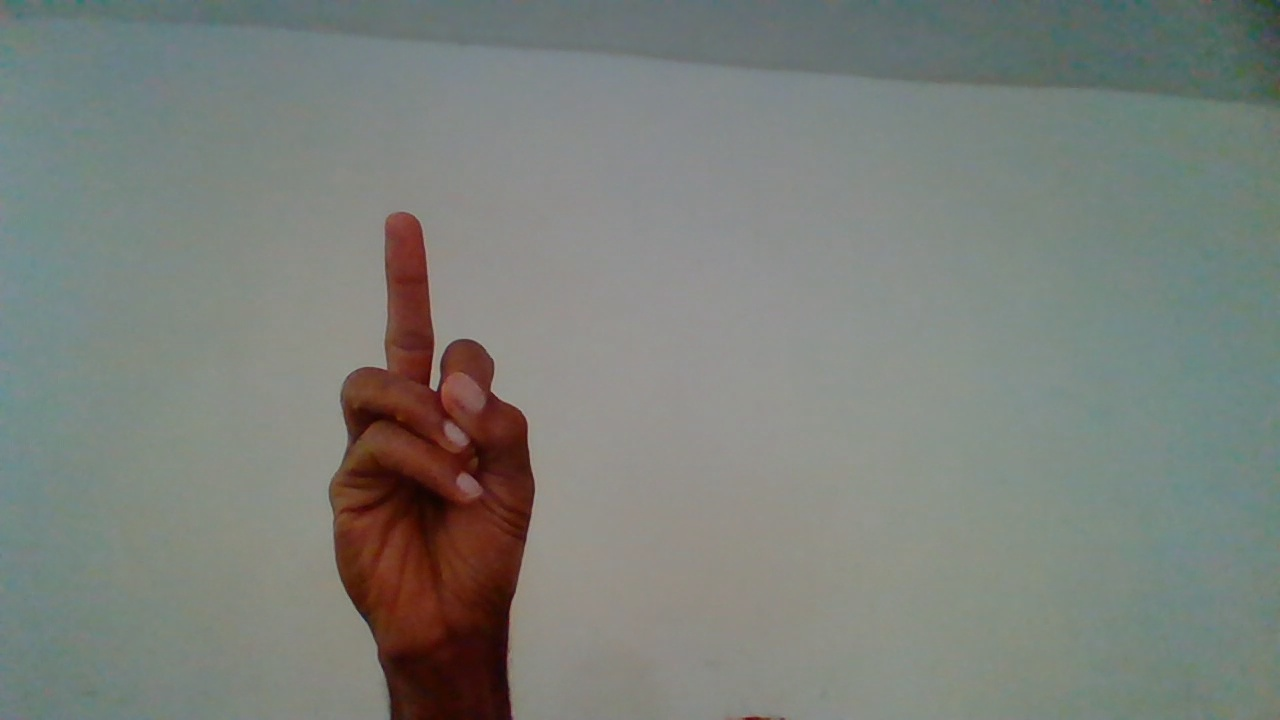he: (328, 213, 545, 705)
